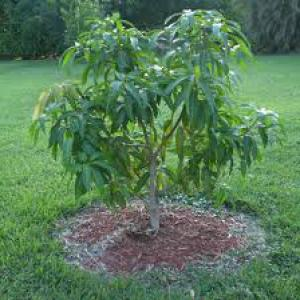Tree: (27, 7, 281, 229)
